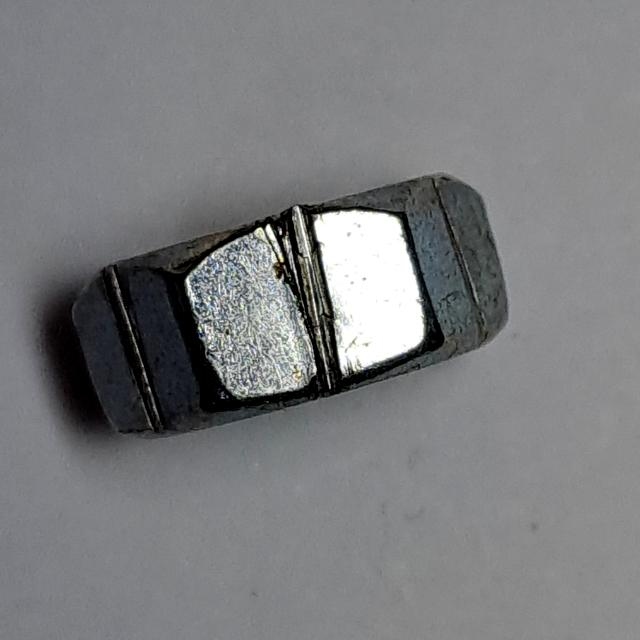Side_Scratches: (66, 164, 527, 450)
